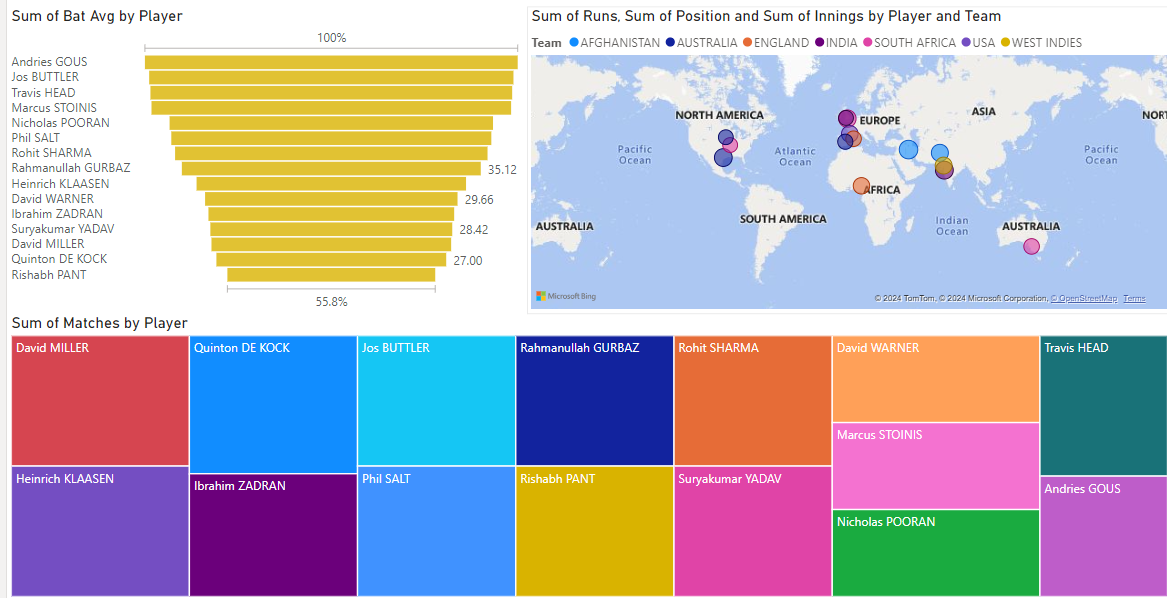

Layout of this report page (visuals, bound fields, positions):
{"tool":"powerbi","page":{"name":"Page 1","canvas":[1280,720],"ordinal":0},"visuals":[{"type":"funnel","fields":{"Y":["Player Batting Stats - Most Runs.Bat Avg"],"Category":["Player Batting Stats - Most Runs.Player"]},"box":[0,67.2,570.8,337.6],"z":0},{"type":"treemap","fields":{"Values":["Player Batting Stats - Most Runs.Matches"],"Group":["Player Batting Stats - Most Runs.Player"]},"box":[0,404.8,1280.3,315.6],"z":1000},{"type":"map","fields":{"Series":["Player Batting Stats - Most Runs.Team"],"Size":["Player Batting Stats - Most Runs.Runs"],"Category":["Player Batting Stats - Most Runs.Player"]},"box":[570.8,67.2,709.4,337.6],"z":2000}]}

Visuals, with their boxes on the page's 1280x720 design canvas (x1, y1, x2, y2). These are canvas units, not pixel positions in the 1167x598 screenshot, which may show the page scaled, cropped or inside an application window:
funnel - Player Batting Stats - Most Runs.Bat Avg x Player Batting Stats - Most Runs.Player: 0 67 571 405
treemap - Player Batting Stats - Most Runs.Matches x Player Batting Stats - Most Runs.Player: 0 405 1280 720
map - Player Batting Stats - Most Runs.Team x Player Batting Stats - Most Runs.Runs: 571 67 1280 405
